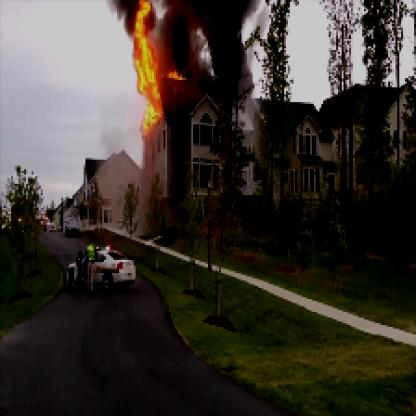Fire: (132, 2, 189, 134)
Smoke: (158, 2, 258, 95)
